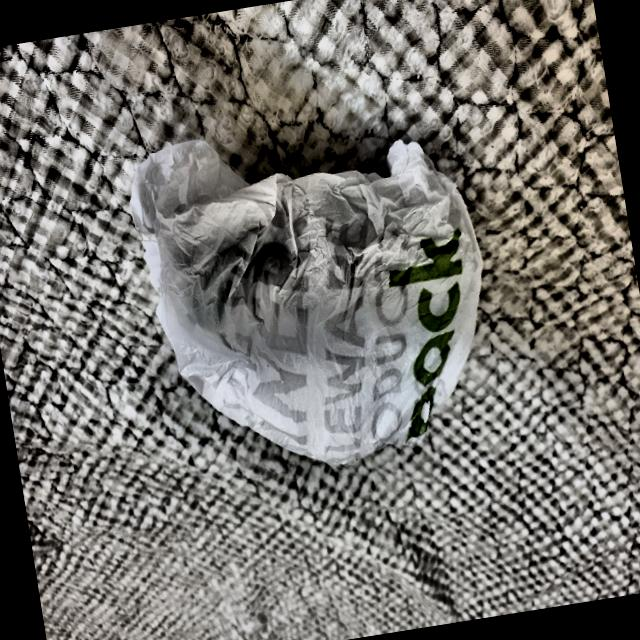plastic bag: (106, 83, 521, 506)
